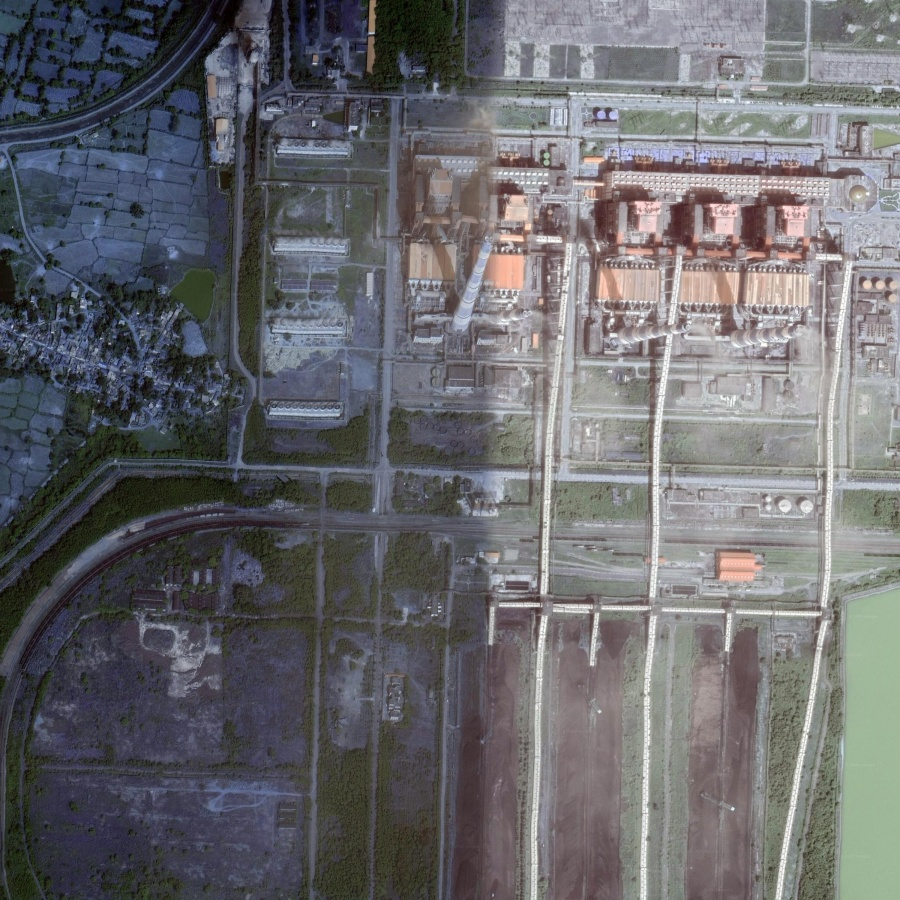PowerPlant: (383, 89, 845, 431)
